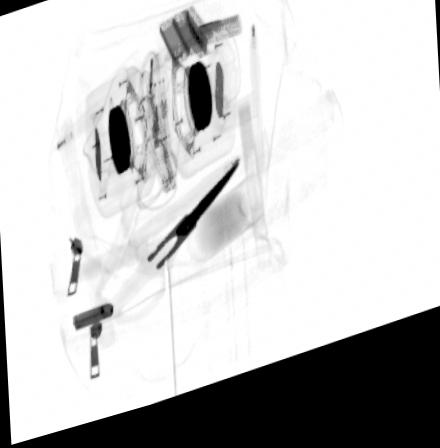Scissors: (96, 174, 238, 353)
